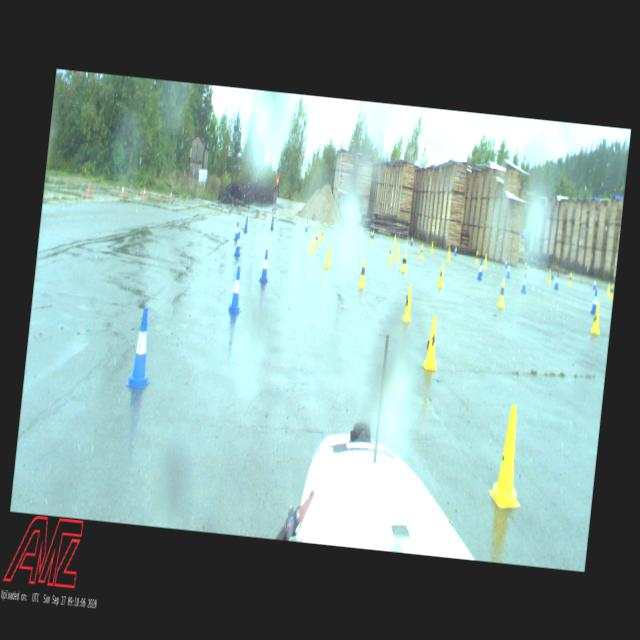blue_cone: (126, 305, 158, 388), (228, 266, 245, 312), (260, 248, 270, 282), (233, 232, 242, 256), (590, 288, 598, 314), (520, 272, 528, 292), (233, 221, 240, 241), (477, 260, 483, 280), (554, 272, 560, 289), (506, 260, 511, 278), (478, 257, 483, 275), (243, 215, 248, 232), (304, 218, 309, 230), (270, 216, 274, 230), (409, 234, 414, 244), (339, 222, 343, 234), (453, 244, 457, 255), (550, 268, 554, 279), (593, 277, 596, 289), (504, 256, 507, 268), (372, 228, 374, 238)
orange_cone: (87, 182, 91, 194), (120, 185, 124, 196), (142, 186, 146, 197), (170, 190, 172, 199)
yellow_cone: (487, 404, 530, 509), (422, 314, 442, 370), (402, 283, 415, 321), (590, 302, 602, 333), (357, 257, 367, 287), (497, 278, 507, 307), (436, 263, 446, 287), (324, 244, 332, 268), (400, 250, 408, 272), (387, 245, 393, 262), (309, 235, 315, 252), (394, 242, 400, 258), (419, 243, 424, 258), (446, 247, 451, 260), (392, 232, 397, 245), (314, 230, 318, 246), (320, 226, 324, 240), (547, 268, 551, 282), (610, 284, 614, 298), (342, 227, 346, 240), (430, 241, 434, 253), (606, 282, 610, 294), (483, 254, 487, 266), (568, 272, 571, 285), (475, 250, 478, 262), (523, 262, 526, 274), (369, 231, 372, 242)
